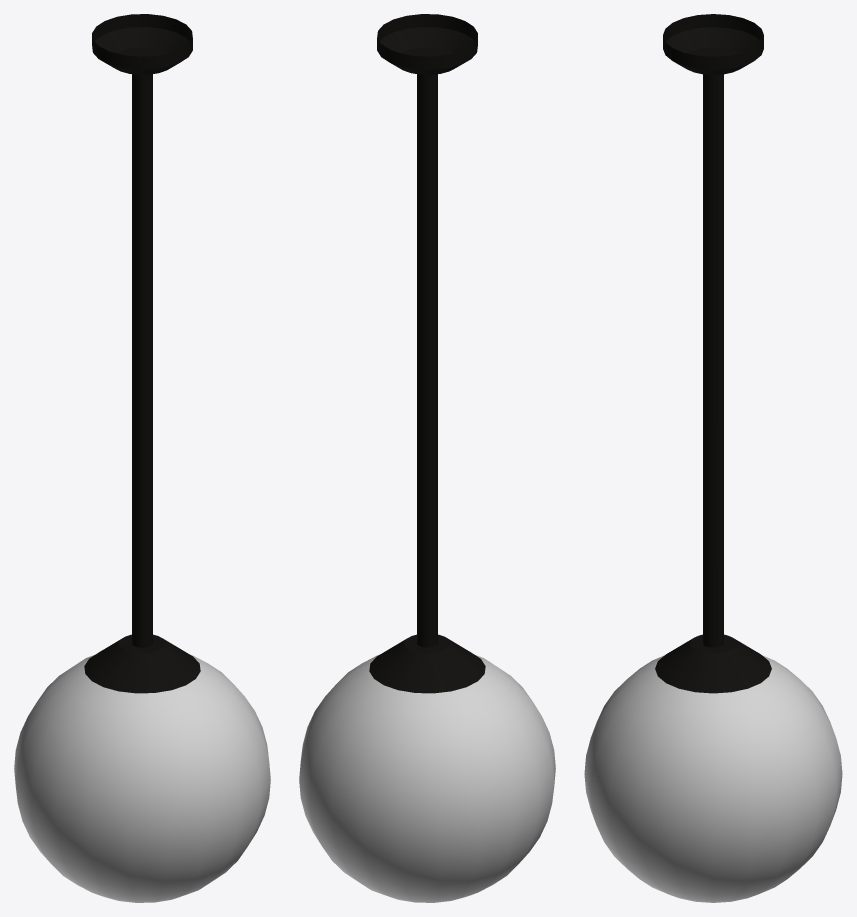
Rendered from SM_Lamp_5.fbx.
3 renders of one model, left to right at view 1: azimuth 30°, elevation 25°; view 2: azimuth 150°, elevation 25°; view 3: azimuth 270°, elevation 25°, orthographic.
Visible parts, largest first — view 1: SM_Lamp_5; view 2: SM_Lamp_5; view 3: SM_Lamp_5.
Part boxes in pixels (x1,y1,x2,y2): SM_Lamp_5: (14, 14, 270, 902); SM_Lamp_5: (299, 14, 555, 902); SM_Lamp_5: (584, 14, 842, 902).
Size of the model in its own units: 37.02 by 37.02 by 135.
2 materials, 1 textured.
